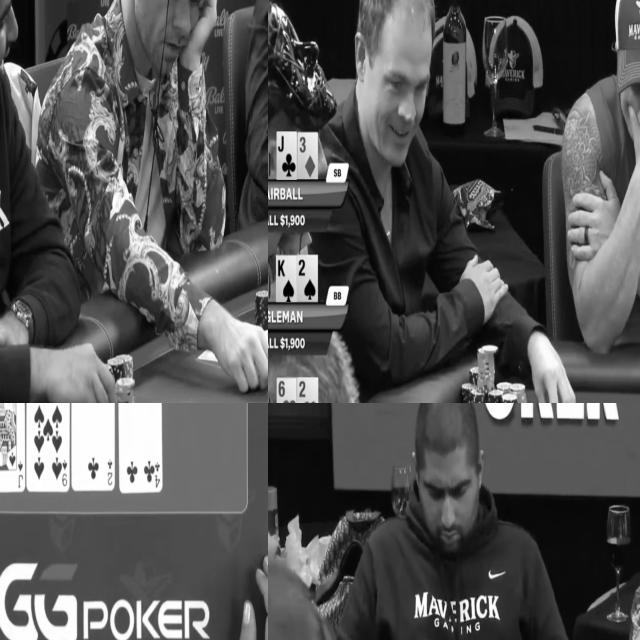2H: (296, 377, 318, 403)
2S: (297, 255, 318, 300)
3D: (296, 133, 318, 179)
6H: (277, 379, 296, 403)
JC: (277, 132, 297, 180)
KS: (276, 254, 297, 302)
